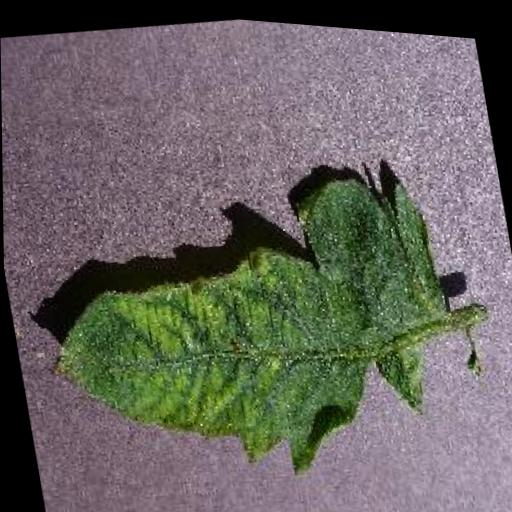Mosaic Virus: (18, 139, 479, 512)
